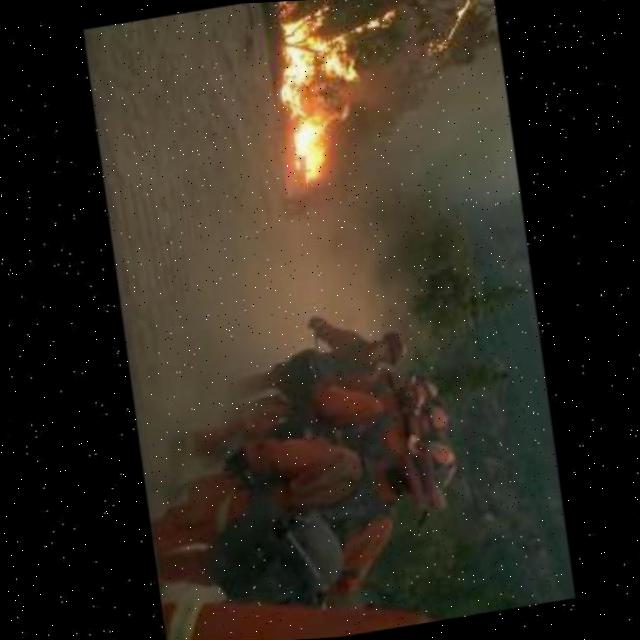fire: (252, 0, 429, 196), (417, 0, 483, 57)
